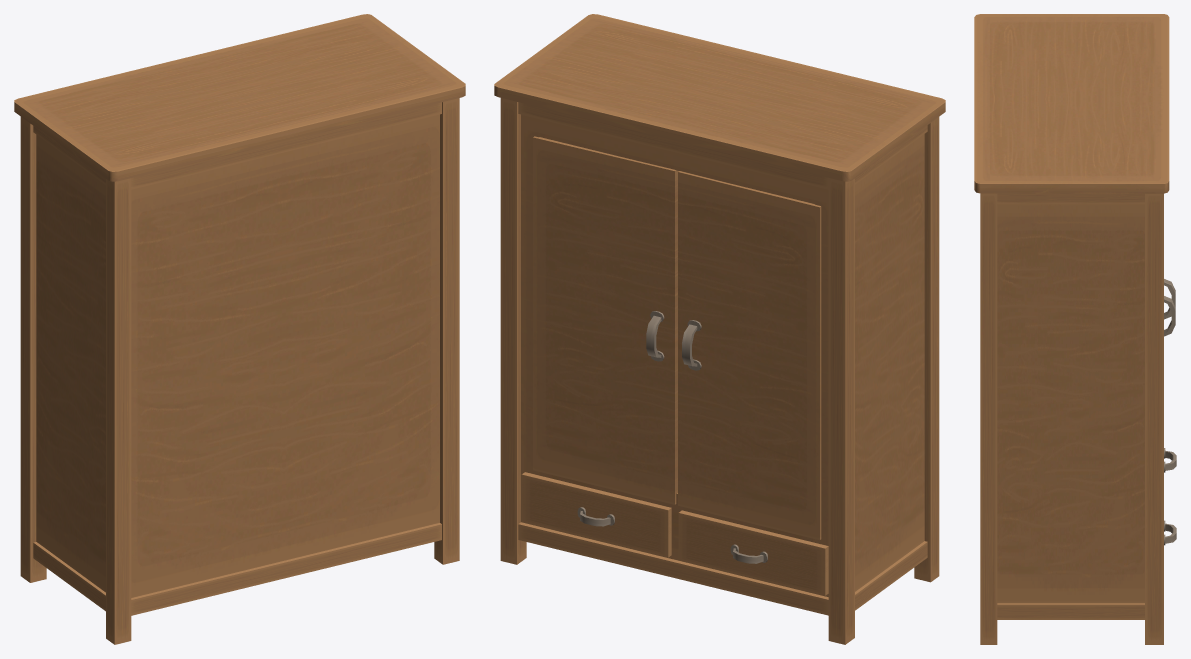
File: Anim.fbx
The picture shows the model from 3 angles, left to right: view 1: azimuth 30°, elevation 25°; view 2: azimuth 150°, elevation 25°; view 3: azimuth 270°, elevation 25°; orthographic projection. The views are drawn at different scales.
Parts seen in each view (by area): view 1: Drawers; view 2: Drawers, DoorLeft, DoorRight; view 3: Drawers.
Boxes of the visible parts, <box> form: Drawers: <box>14,14,465,644</box>; Drawers: <box>494,14,945,644</box>; DoorLeft: <box>533,136,678,504</box>; DoorRight: <box>678,171,821,540</box>; Drawers: <box>974,14,1176,644</box>.
Size of the model in its own units: 2.72 by 3.46 by 1.37.
